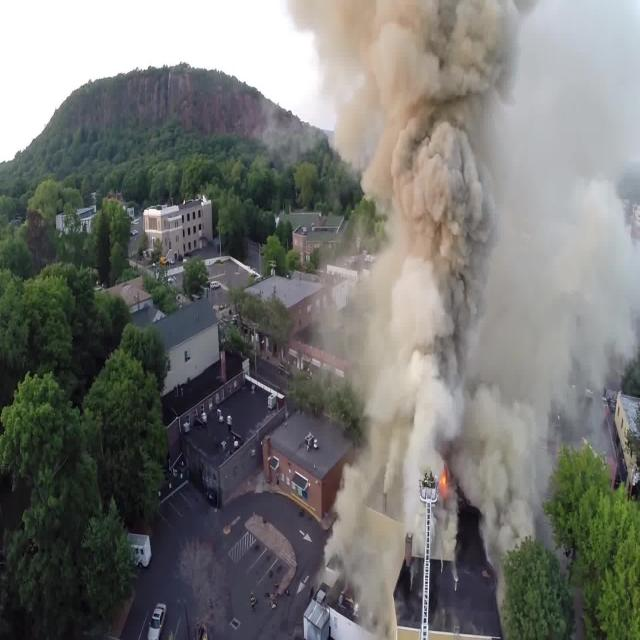Fire: (439, 462, 452, 498)
Smoke: (327, 4, 602, 559)
